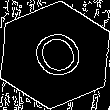O_SE: (22, 23, 88, 87)
